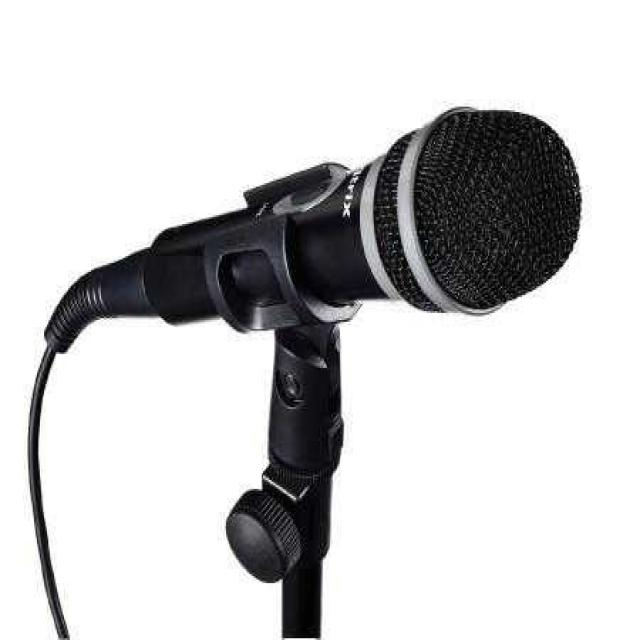microphone: (50, 111, 575, 342)
